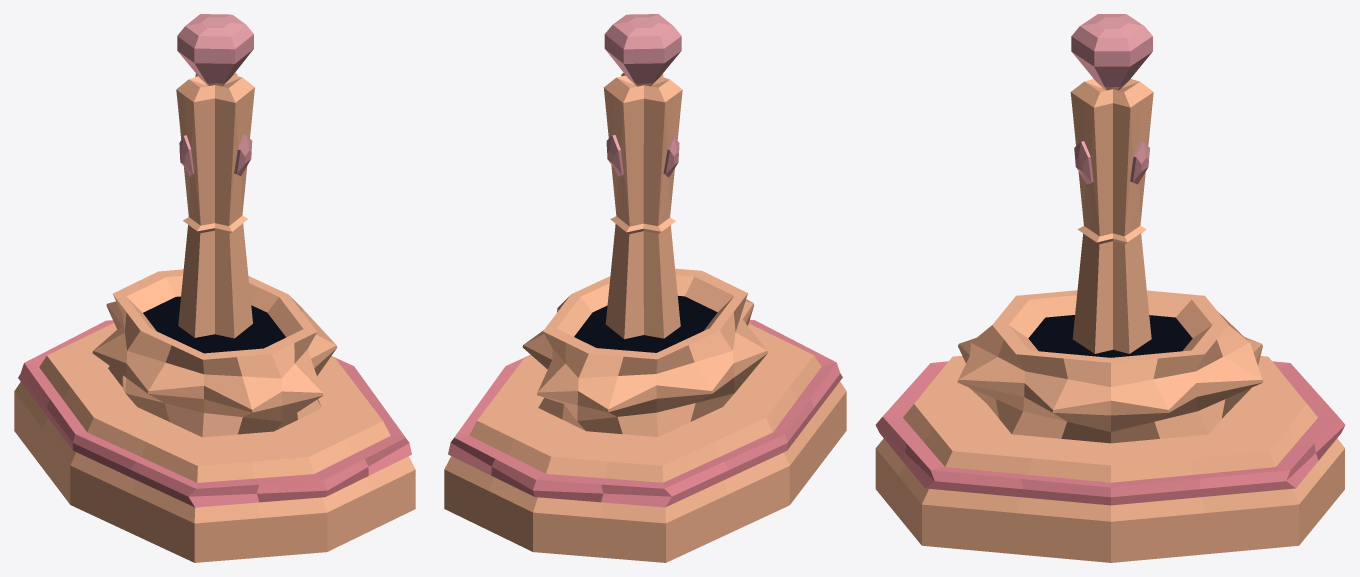
File: LeverWithBaseIncluded.fbx
3 renders of one model, left to right at view 1: azimuth 30°, elevation 25°; view 2: azimuth 150°, elevation 25°; view 3: azimuth 270°, elevation 25°, orthographic. The views are drawn at different scales.
Visible parts, largest first — view 1: Lever Base, Lever Shaft; view 2: Lever Base, Lever Shaft; view 3: Lever Base, Lever Shaft.
Boxes of the visible parts, x1,y1,x2,y2 form: Lever Base: (14,269,415,562); Lever Shaft: (176,14,254,338); Lever Base: (444,268,846,562); Lever Shaft: (603,14,682,339); Lever Base: (875,290,1345,562); Lever Shaft: (1070,14,1153,353).
Bounding box in the file's own units: 236 × 349 × 318.
1 material, 1 textured.
